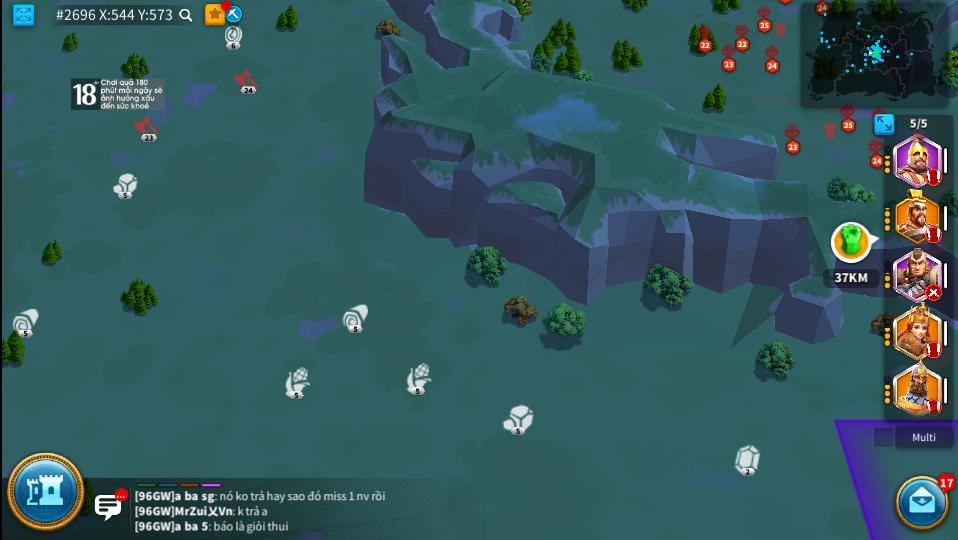gem-z-out: (734, 444, 759, 477)
march_attacking: (926, 284, 942, 301), (926, 342, 942, 358), (926, 400, 942, 416), (927, 227, 942, 243), (927, 170, 942, 185)
